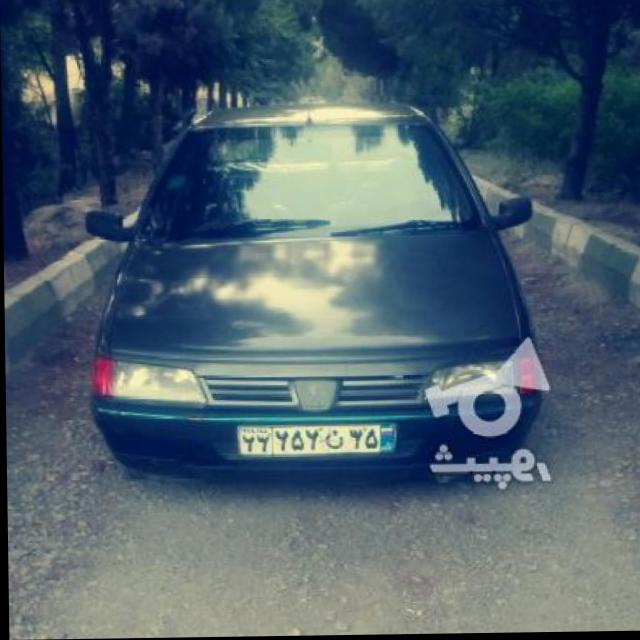licence: (234, 423, 400, 454)
